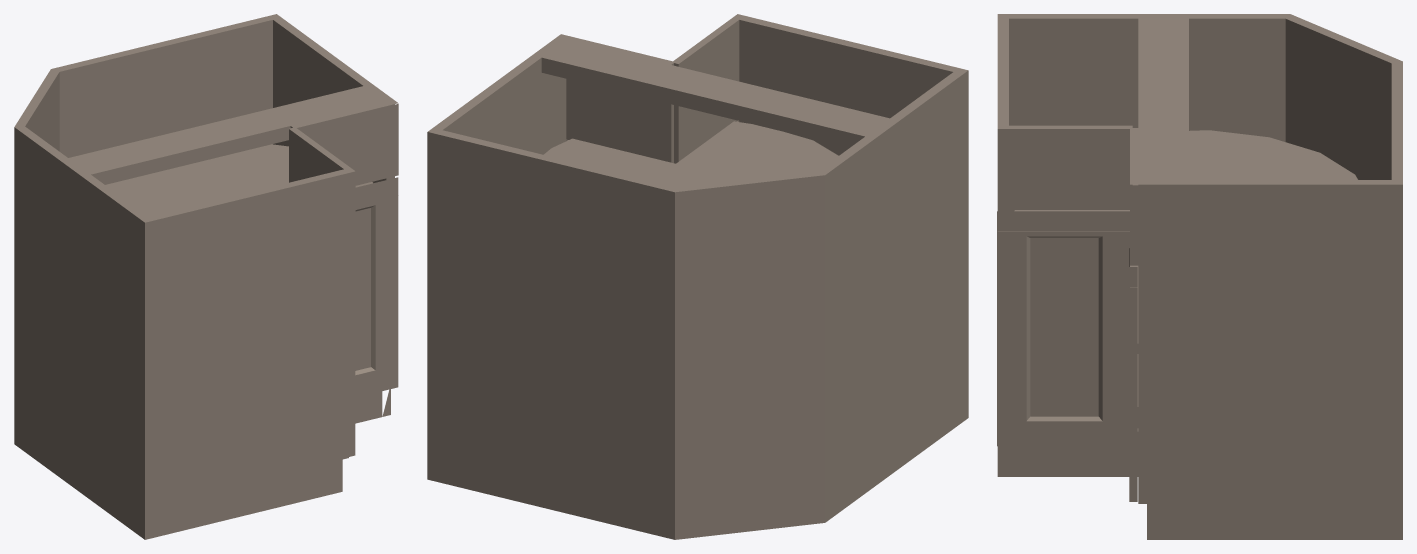
The model's file is Base-Cabinet-Super-Susan.std.glb.
3 renders of one model, left to right at view 1: azimuth 30°, elevation 25°; view 2: azimuth 150°, elevation 25°; view 3: azimuth 270°, elevation 25°, orthographic. The views are drawn at different scales.
Visible parts, largest first — view 1: Base-Cabinet-Super-Susan.std.001; view 2: Base-Cabinet-Super-Susan.std.001; view 3: Base-Cabinet-Super-Susan.std.001.
Boxes of the visible parts, left/top/right/bottom form: Base-Cabinet-Super-Susan.std.001: left=14, top=14, right=398, bottom=539; Base-Cabinet-Super-Susan.std.001: left=427, top=14, right=968, bottom=539; Base-Cabinet-Super-Susan.std.001: left=997, top=14, right=1402, bottom=539.
Bounding box in the file's own units: 0.9039 × 0.8763 × 0.9077.
